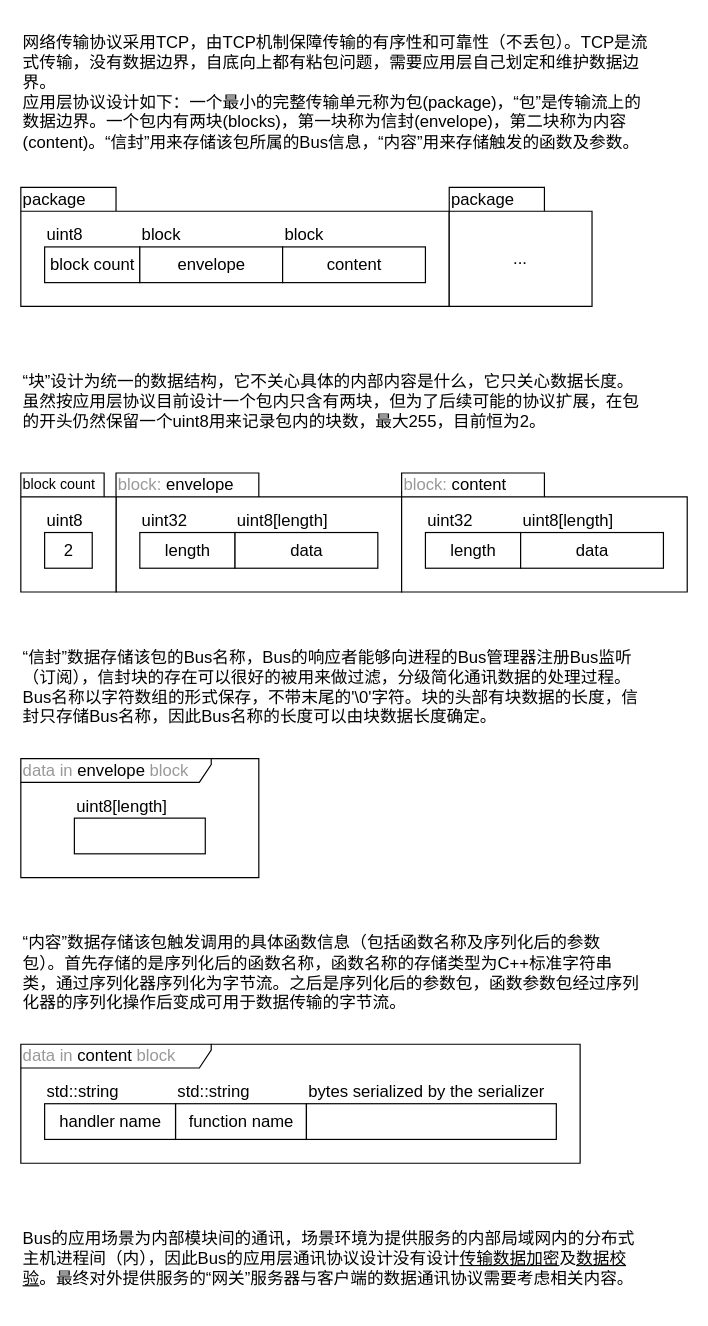
Some shapes in this 708 by 1326 pixel diagram are drawn without their labels. The shapes that lost their labels are listed below. From the top down, each one's centre as x and y in pixels, then its label:
pixel 139 835: bus name
pixel 430 1121: serialized function arguments
